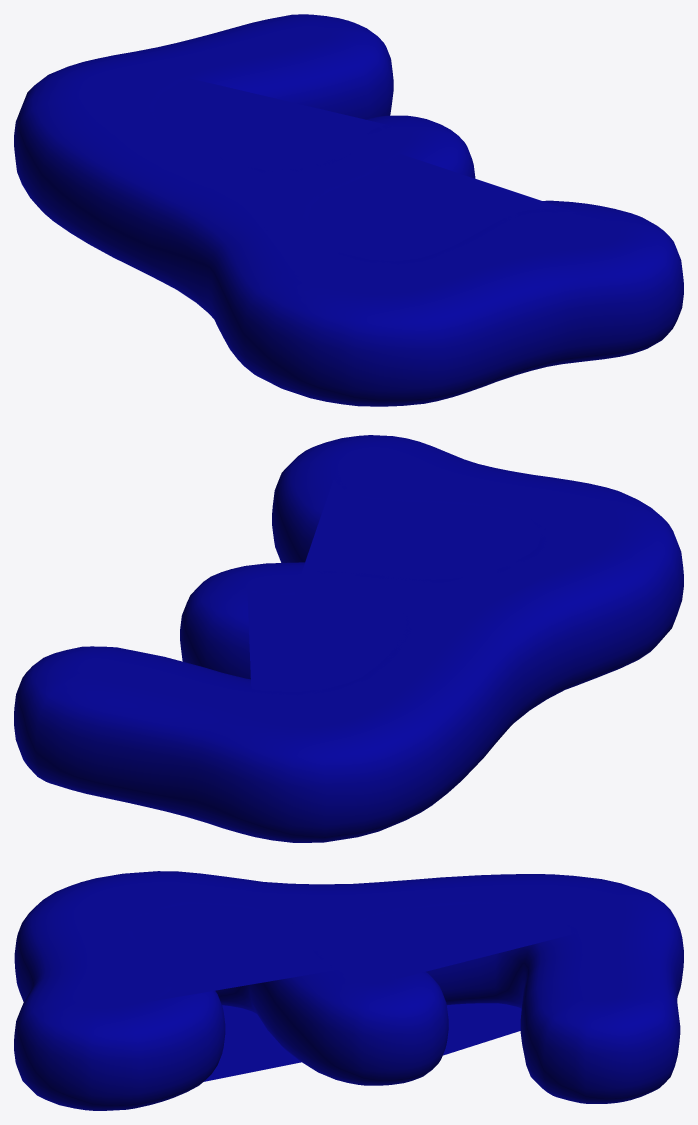
3 views of the same model, one above another, from view 1: azimuth 30°, elevation 25°; view 2: azimuth 150°, elevation 25°; view 3: azimuth 270°, elevation 25° (orthographic). The views are drawn at different scales.
Parts seen in each view (by area): view 1: Curve.006; view 2: Curve.006; view 3: Curve.006.
Part boxes in pixels (<box>): Curve.006: <box>14,14,683,406</box>; Curve.006: <box>14,435,683,842</box>; Curve.006: <box>14,871,683,1110</box>.
Bounding box in the file's own units: 204 × 49.57 × 327.
1 material, 1 textured.
